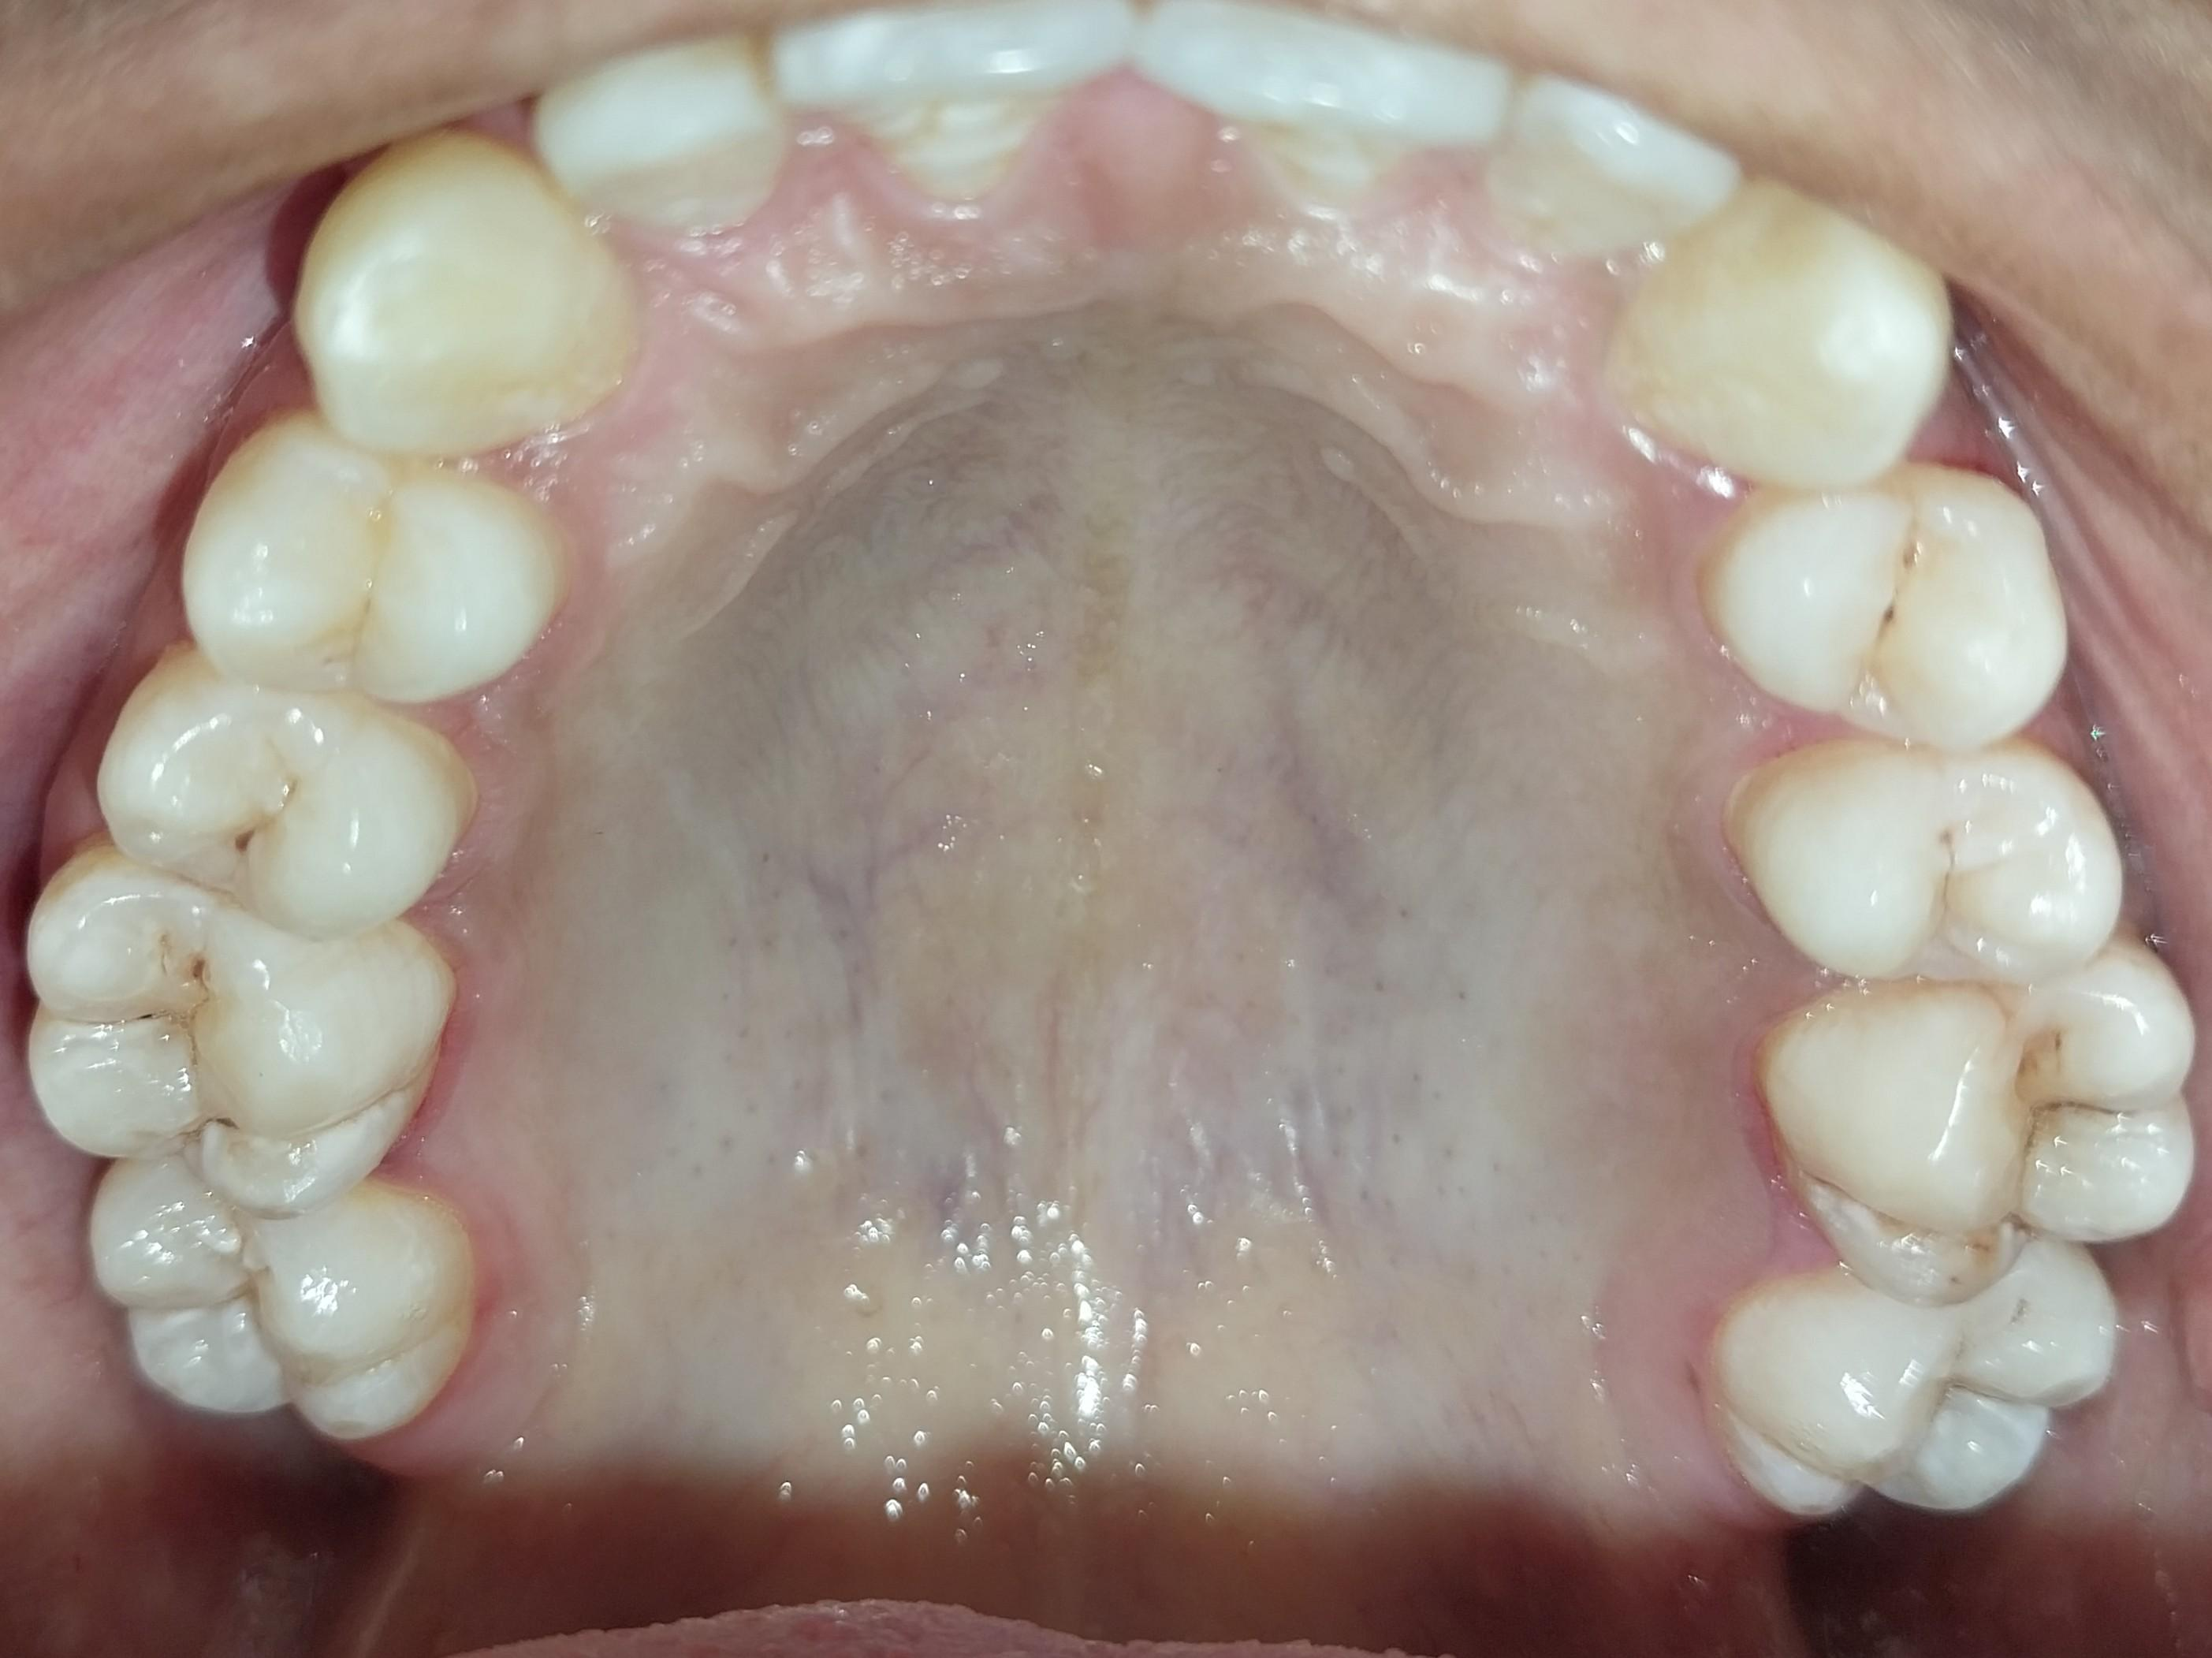D: (22, 859, 447, 1223), (1767, 963, 2206, 1291), (1733, 721, 2136, 978), (1705, 465, 2074, 733), (112, 680, 461, 927)
